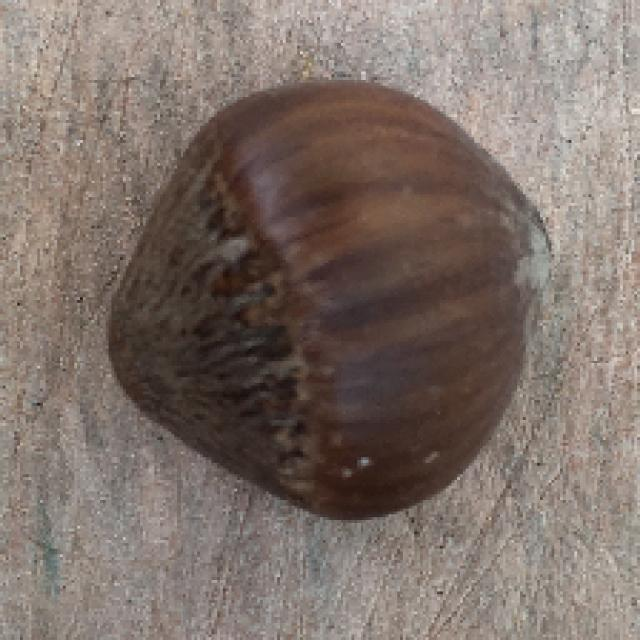damagedHazelnut: (97, 82, 558, 515)
